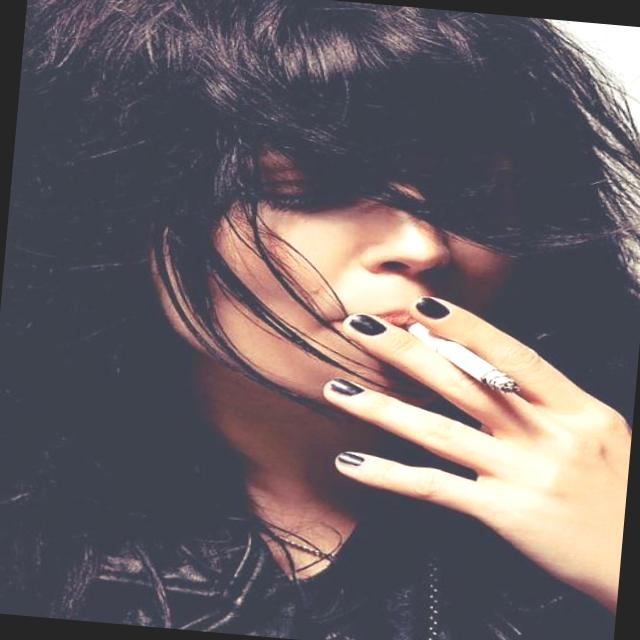smoke: (384, 287, 556, 413)
